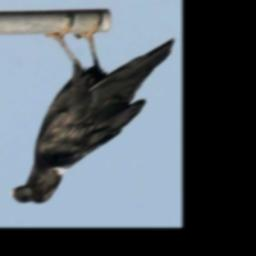Crow: (11, 13, 175, 207)
